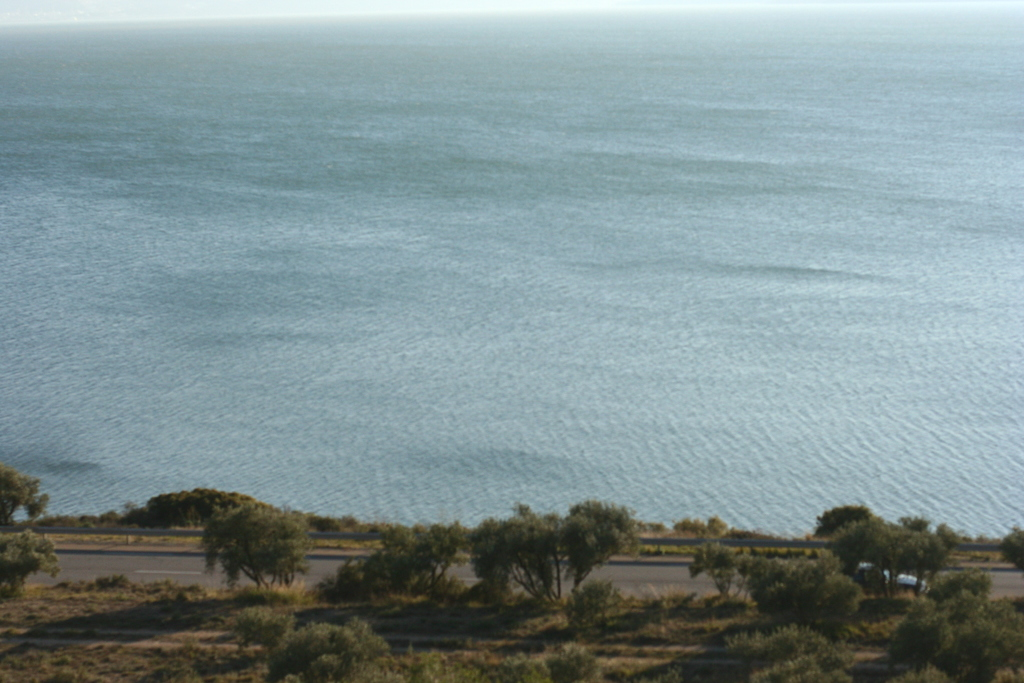Tree: (124, 488, 1023, 682), (177, 504, 297, 599), (0, 526, 58, 580), (0, 461, 48, 522)
